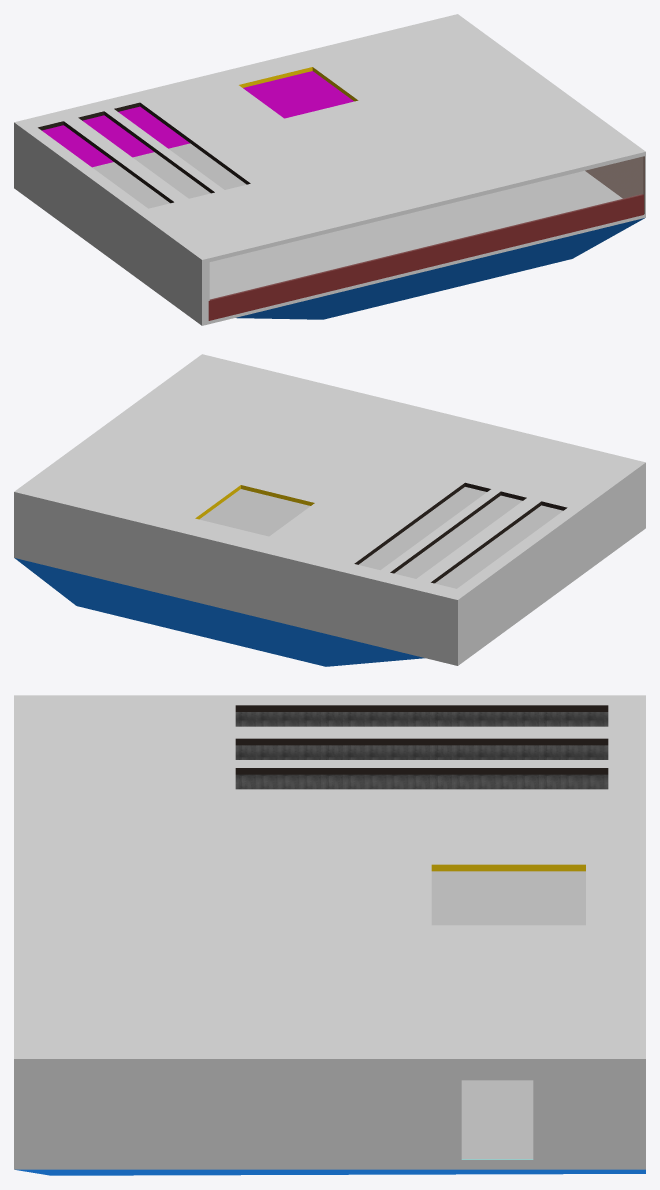
The model's file is Floor2_Building.fbx.
3 views of the same model, one above another, from view 1: azimuth 30°, elevation 25°; view 2: azimuth 150°, elevation 25°; view 3: azimuth 270°, elevation 25° (orthographic). The views are drawn at different scales.
Visible parts, largest first — view 1: white Mesh (1), Wall Mesh (1), transparency Mesh (1), Material #197 Mesh (1), blue Mesh (1), pink Mesh (1), Deprimo_decor_Go Mesh (1), bright brown Mesh (1), yellow Mesh (1); view 2: white Mesh (1), blue Mesh (1), Wall Mesh (1), Deprimo_decor_Go Mesh (1), yellow Mesh (1); view 3: white Mesh (1), Boconcept Mesh (1), Wall Mesh (1), Deprimo_decor_Go Mesh (1), blue Mesh (1), yellow Mesh (1).
Part boxes in pixels (x1,y1,x2,y2): white Mesh (1): [14, 14, 645, 325]; Wall Mesh (1): [92, 143, 644, 299]; transparency Mesh (1): [210, 156, 643, 299]; Material #197 Mesh (1): [208, 194, 643, 320]; blue Mesh (1): [236, 218, 644, 319]; pink Mesh (1): [42, 71, 353, 167]; Deprimo_decor_Go Mesh (1): [38, 102, 250, 203]; bright brown Mesh (1): [585, 156, 644, 214]; yellow Mesh (1): [239, 67, 358, 101]; white Mesh (1): [14, 354, 645, 665]; blue Mesh (1): [14, 558, 424, 666]; Wall Mesh (1): [199, 487, 563, 588]; Deprimo_decor_Go Mesh (1): [354, 482, 567, 583]; yellow Mesh (1): [195, 485, 314, 519]; white Mesh (1): [14, 695, 645, 1169]; Boconcept Mesh (1): [235, 712, 608, 789]; Wall Mesh (1): [431, 871, 585, 1158]; Deprimo_decor_Go Mesh (1): [235, 705, 608, 774]; blue Mesh (1): [15, 1169, 645, 1175]; yellow Mesh (1): [431, 864, 585, 871].
Bounding box in the file's own units: 92.97 × 20.02 × 68.27.
